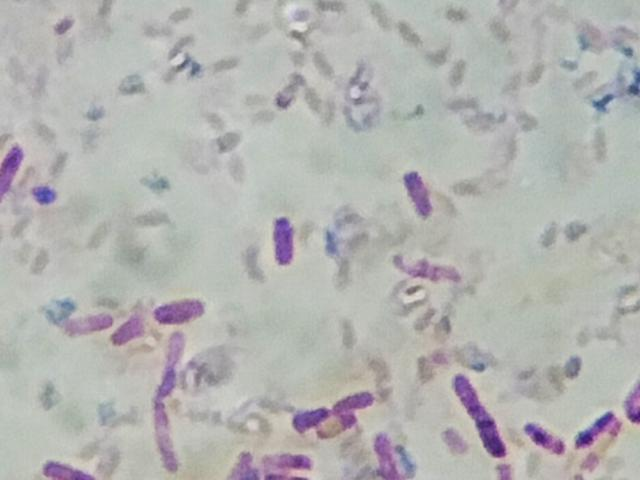E. coli: (452, 370, 504, 461), (151, 372, 190, 467), (268, 212, 303, 272), (522, 419, 570, 461), (0, 136, 31, 198), (576, 400, 610, 453), (152, 295, 211, 325), (405, 169, 437, 224), (158, 330, 193, 377), (39, 449, 91, 480), (375, 429, 405, 480), (111, 313, 148, 349), (65, 307, 114, 331), (333, 387, 370, 418), (261, 445, 311, 467), (232, 443, 254, 480), (295, 403, 326, 429), (261, 466, 304, 480)
